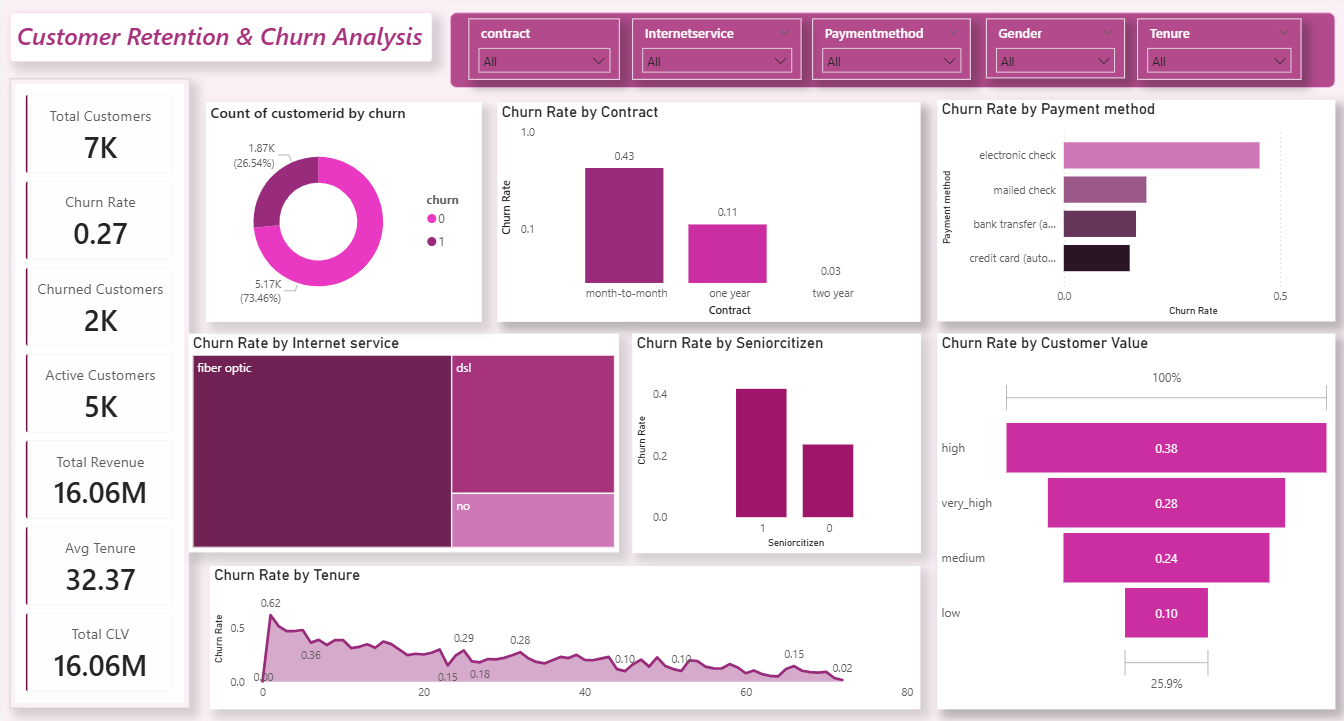

The dashboard page shown, as its layout file describes it:
{"tool":"powerbi","page":{"name":"Page 1","canvas":[1500,800],"ordinal":0},"visuals":[{"type":"textbox","box":[9.7,12.1,469.3,55.5],"z":0},{"type":"shape","box":[498,12,984,84],"z":1000},{"type":"cardVisual","fields":{"Data":["cleaned_customer_churn.Total Customers","cleaned_customer_churn.Churn Rate","cleaned_customer_churn.Churned Customers","cleaned_customer_churn.Active Customers","cleaned_customer_churn.Total Revenue","cleaned_customer_churn.Avg Tenure","cleaned_customer_churn.Total CLV"]},"box":[9.3,86.7,200,700],"z":2000},{"type":"slicer","fields":{"Values":["cleaned_customer_churn.contract"]},"box":[520,20,168,68],"z":3000},{"type":"slicer","fields":{"Values":["cleaned_customer_churn.internetservice"]},"box":[702,20,188,68],"z":4000},{"type":"slicer","fields":{"Values":["cleaned_customer_churn.paymentmethod"]},"box":[902,20,176,68],"z":5000},{"type":"slicer","fields":{"Values":["cleaned_customer_churn.gender"]},"box":[1094,20,154,66],"z":6000},{"type":"slicer","fields":{"Values":["cleaned_customer_churn.tenure"]},"box":[1262,20,182,68],"z":7000},{"type":"clusteredColumnChart","fields":{"Category":["cleaned_customer_churn.contract"],"Y":["cleaned_customer_churn.Churn Rate"]},"box":[552,112,470,244],"z":8000},{"type":"clusteredBarChart","fields":{"Category":["cleaned_customer_churn.paymentmethod"],"Y":["cleaned_customer_churn.Churn Rate"]},"box":[1040,110,442,246],"z":9000},{"type":"treemap","fields":{"Group":["cleaned_customer_churn.internetservice"],"Values":["cleaned_customer_churn.Churn Rate"]},"box":[208.9,369.6,478.6,242.9],"z":10000},{"type":"donutChart","fields":{"Category":["cleaned_customer_churn.churn"],"Y":["CountNonNull(cleaned_customer_churn.customerid)"]},"box":[228,112,306,244],"z":11000},{"type":"columnChart","fields":{"Category":["cleaned_customer_churn.seniorcitizen"],"Y":["cleaned_customer_churn.Churn Rate"]},"box":[701.5,369.1,320.6,244.1],"z":12000},{"type":"lineChart","fields":{"Category":["cleaned_customer_churn.tenure"],"Y":["cleaned_customer_churn.Churn Rate"]},"box":[232.4,627.9,789.7,158.8],"z":13000},{"type":"funnel","fields":{"Category":["cleaned_customer_churn.spend_category"],"Y":["cleaned_customer_churn.Churn Rate"]},"box":[1040,369.3,442.7,417.3],"z":14000}]}

Visuals, with their boxes in screenshot pixels (x1, y1, x2, y2), scaled from the page's 1500x800 canvas onto the 1344x721 screenshot:
textbox: box(9, 11, 429, 61)
shape: box(446, 11, 1328, 87)
cardVisual - cleaned_customer_churn.Total Customers x cleaned_customer_churn.Churn Rate: box(8, 78, 188, 709)
slicer - cleaned_customer_churn.contract: box(466, 18, 616, 79)
slicer - cleaned_customer_churn.internetservice: box(629, 18, 797, 79)
slicer - cleaned_customer_churn.paymentmethod: box(808, 18, 966, 79)
slicer - cleaned_customer_churn.gender: box(980, 18, 1118, 78)
slicer - cleaned_customer_churn.tenure: box(1131, 18, 1294, 79)
clusteredColumnChart - cleaned_customer_churn.contract x cleaned_customer_churn.Churn Rate: box(495, 101, 916, 321)
clusteredBarChart - cleaned_customer_churn.paymentmethod x cleaned_customer_churn.Churn Rate: box(932, 99, 1328, 321)
treemap - cleaned_customer_churn.internetservice x cleaned_customer_churn.Churn Rate: box(187, 333, 616, 552)
donutChart - cleaned_customer_churn.churn x CountNonNull(cleaned_customer_churn.customerid): box(204, 101, 478, 321)
columnChart - cleaned_customer_churn.seniorcitizen x cleaned_customer_churn.Churn Rate: box(629, 333, 916, 553)
lineChart - cleaned_customer_churn.tenure x cleaned_customer_churn.Churn Rate: box(208, 566, 916, 709)
funnel - cleaned_customer_churn.spend_category x cleaned_customer_churn.Churn Rate: box(932, 333, 1328, 709)
